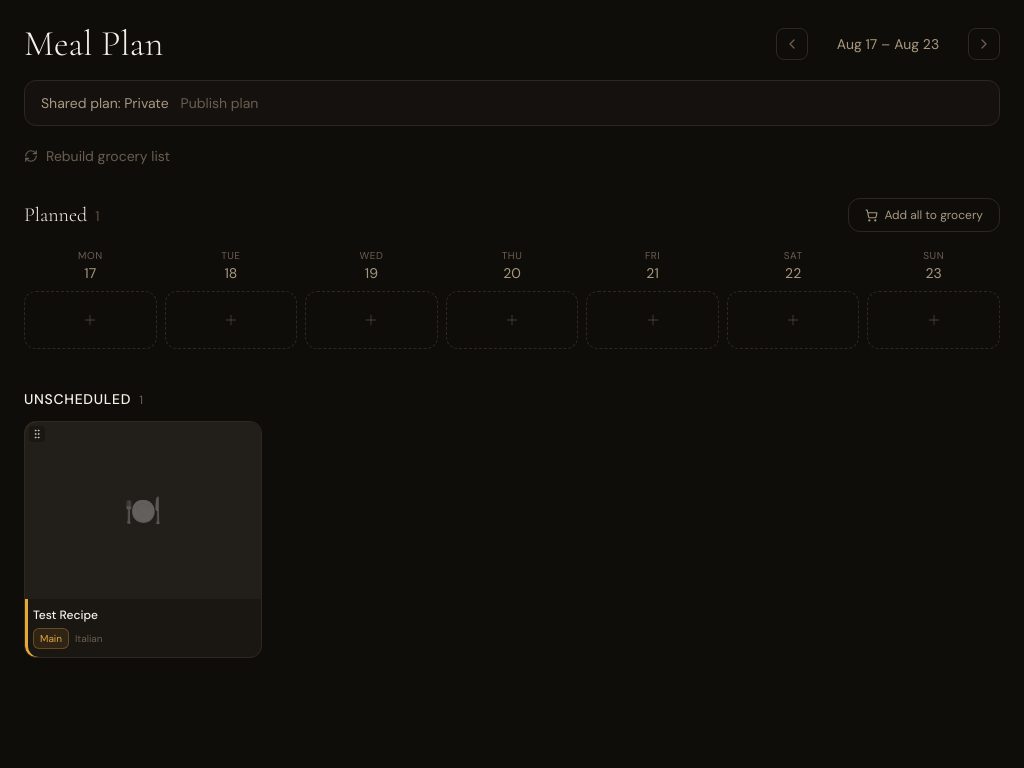
Test case: plan write errors › keeps sharing failures visible without changing the private plan
Click the button "Publish plan" at (219, 103), box x1=181 y1=93 x2=258 y2=113
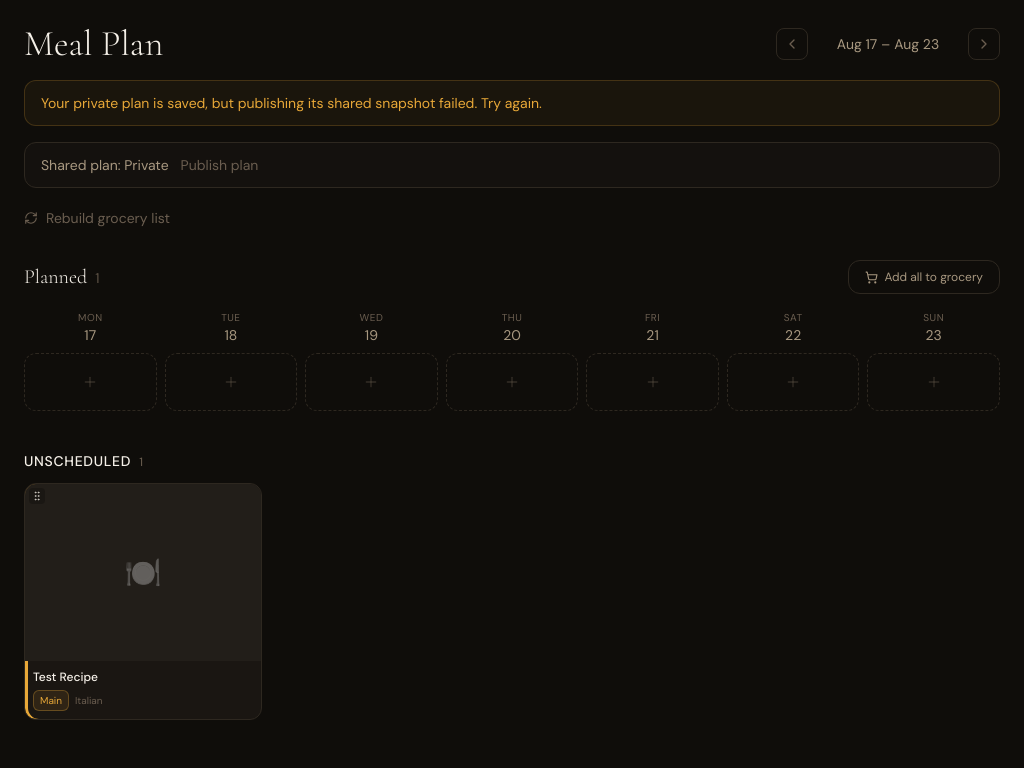
Expected: the text "Test Recipe" is shown, x1=33 y1=669 x2=98 y2=685
Expected: the 1st message shows "publishing its shared snapshot failed", x1=41 y1=94 x2=542 y2=112
